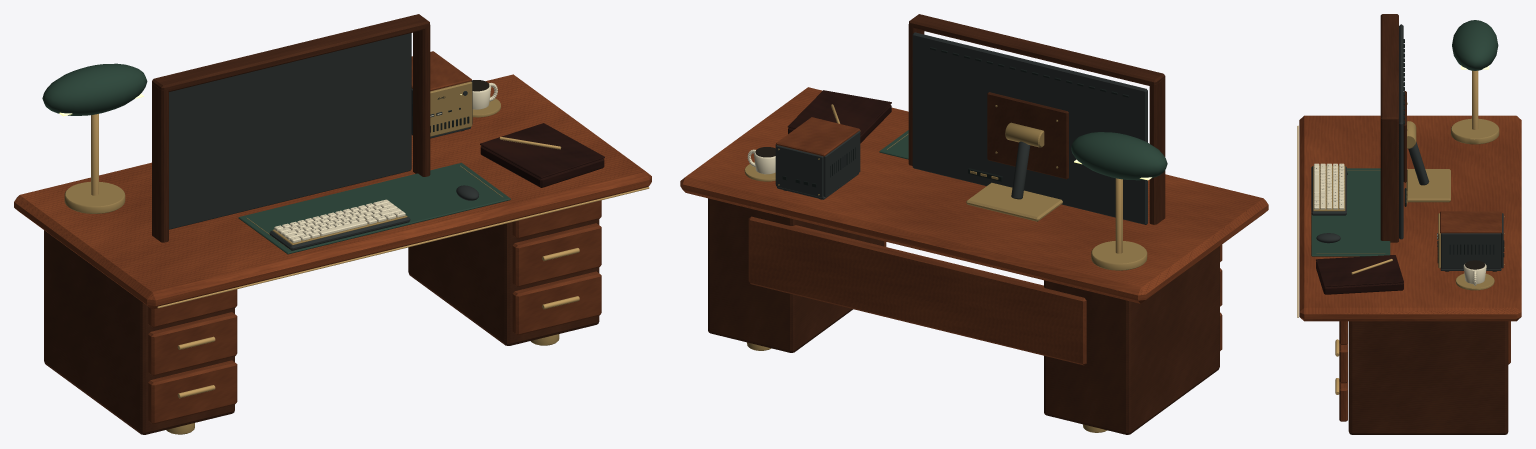
File: desk.glb
3 renders of one model, left to right at view 1: azimuth 30°, elevation 25°; view 2: azimuth 150°, elevation 25°; view 3: azimuth 270°, elevation 25°, orthographic. The views are drawn at different scales.
Visible parts, largest first — view 1: part::desk/desk-solid-walnut-top-001, part::monitor/display-rear-shell-001, part::desk/desk-pedestal-001, part::desk/desk-pedestal-002, part::desk/desk-inset-leather-mat-001, part::monitor/display-top-walnut-bezel-001, part::desk-lamp/banker-green-enamel-shade-001, part::desk/desk-drawer-front-004, part::desk/desk-drawer-front-005, part::desk/desk-drawer-front-001, part::desk/desk-drawer-front-002, part::notebook/notebook-top-cover-001 (+11 smaller); view 2: part::desk/desk-solid-walnut-top-001, part::desk/desk-modesty-apron-001, part::monitor/display-rear-shell-001, part::desk/desk-pedestal-001, part::desk/desk-pedestal-002, part::monitor/display-rear-service-cover-001, part::monitor/display-top-walnut-bezel-001, part::desk-lamp/banker-green-enamel-shade-001, part::notebook/notebook-top-cover-001, part::monitor/display-brass-footing-001, part::computer/computer-rear-service-panel-001, part::monitor/display-left-walnut-bezel-001 (+7 smaller); view 3: part::desk/desk-solid-walnut-top-001, part::desk/desk-pedestal-002, part::desk/desk-inset-leather-mat-001, part::monitor/display-right-walnut-bezel-001, part::notebook/notebook-top-cover-001, part::monitor/display-top-walnut-bezel-001, part::computer/computer-right-side-panel-001, part::desk-lamp/banker-green-enamel-shade-001, part::computer/computer-walnut-top-panel-001, part::monitor/display-brass-footing-001, part::monitor/display-rear-shell-001, part::desk-lamp/banker-lamp-foot-001 (+12 smaller).
Part boxes in pixels (box(x1,y1,x2,y2)): part::desk/desk-solid-walnut-top-001: box(14, 74, 651, 309); part::monitor/display-rear-shell-001: box(169, 33, 411, 229); part::desk/desk-pedestal-001: box(44, 230, 234, 434); part::desk/desk-pedestal-002: box(408, 219, 599, 345); part::desk/desk-inset-leather-mat-001: box(238, 162, 510, 254); part::monitor/display-top-walnut-bezel-001: box(152, 14, 429, 91); part::desk-lamp/banker-green-enamel-shade-001: box(42, 63, 147, 115); part::desk/desk-drawer-front-004: box(512, 271, 601, 335); part::desk/desk-drawer-front-005: box(512, 223, 601, 286); part::desk/desk-drawer-front-001: box(148, 360, 237, 424); part::desk/desk-drawer-front-002: box(148, 312, 237, 375); part::notebook/notebook-top-cover-001: box(480, 123, 604, 178); part::desk/desk-solid-walnut-top-001: box(680, 87, 1268, 303); part::desk/desk-modesty-apron-001: box(748, 216, 1086, 365); part::monitor/display-rear-shell-001: box(912, 32, 1147, 224); part::desk/desk-pedestal-001: box(1044, 246, 1219, 434); part::desk/desk-pedestal-002: box(708, 198, 883, 352); part::monitor/display-rear-service-cover-001: box(987, 92, 1068, 179); part::monitor/display-top-walnut-bezel-001: box(909, 14, 1165, 85); part::desk-lamp/banker-green-enamel-shade-001: box(1071, 132, 1167, 180); part::notebook/notebook-top-cover-001: box(787, 90, 891, 134); part::monitor/display-brass-footing-001: box(966, 182, 1062, 221); part::computer/computer-rear-service-panel-001: box(776, 145, 823, 197); part::monitor/display-left-walnut-bezel-001: box(1149, 78, 1165, 224); part::desk/desk-solid-walnut-top-001: box(1299, 115, 1521, 321); part::desk/desk-pedestal-002: box(1348, 321, 1508, 434); part::desk/desk-inset-leather-mat-001: box(1311, 168, 1390, 256); part::monitor/display-right-walnut-bezel-001: box(1380, 120, 1398, 242); part::notebook/notebook-top-cover-001: box(1316, 255, 1403, 287); part::monitor/display-top-walnut-bezel-001: box(1380, 14, 1398, 121); part::computer/computer-right-side-panel-001: box(1441, 233, 1501, 268); part::desk-lamp/banker-green-enamel-shade-001: box(1452, 20, 1498, 70); part::computer/computer-walnut-top-panel-001: box(1440, 211, 1501, 233); part::monitor/display-brass-footing-001: box(1406, 169, 1450, 202); part::monitor/display-rear-shell-001: box(1399, 24, 1403, 239); part::desk-lamp/banker-lamp-foot-001: box(1451, 118, 1499, 144).
Bounding box in the file's own units: 2.3 × 1.46 × 1.11.
Materials: 13 (4 with a texture image).
